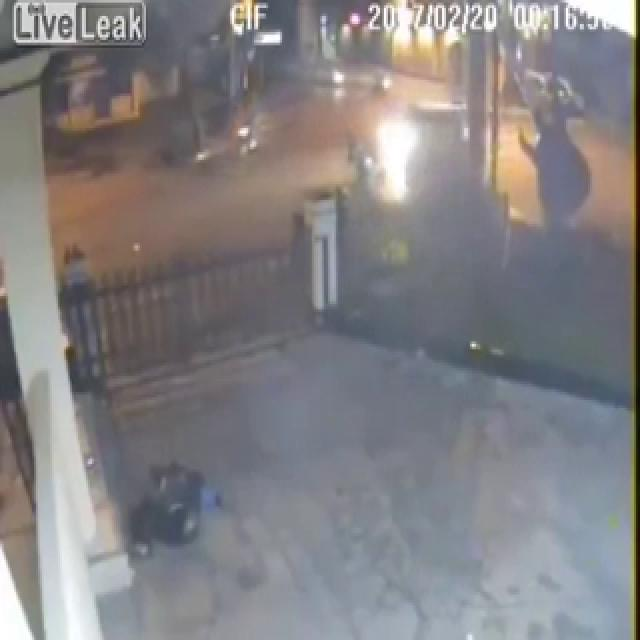road accidents: (308, 34, 529, 372)
